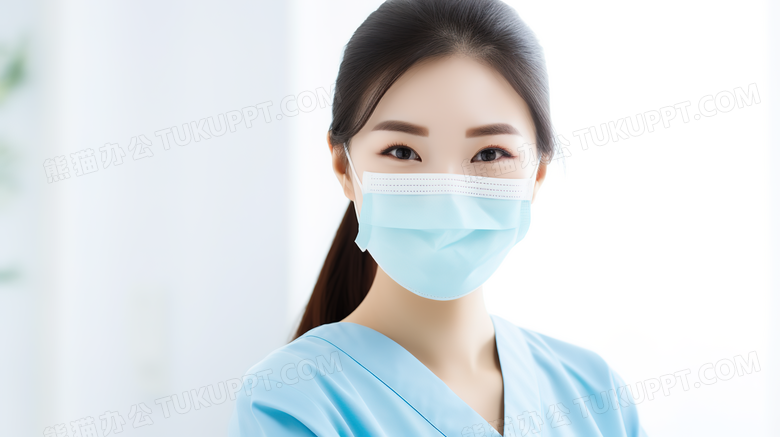with_mask: (326, 16, 558, 304)
